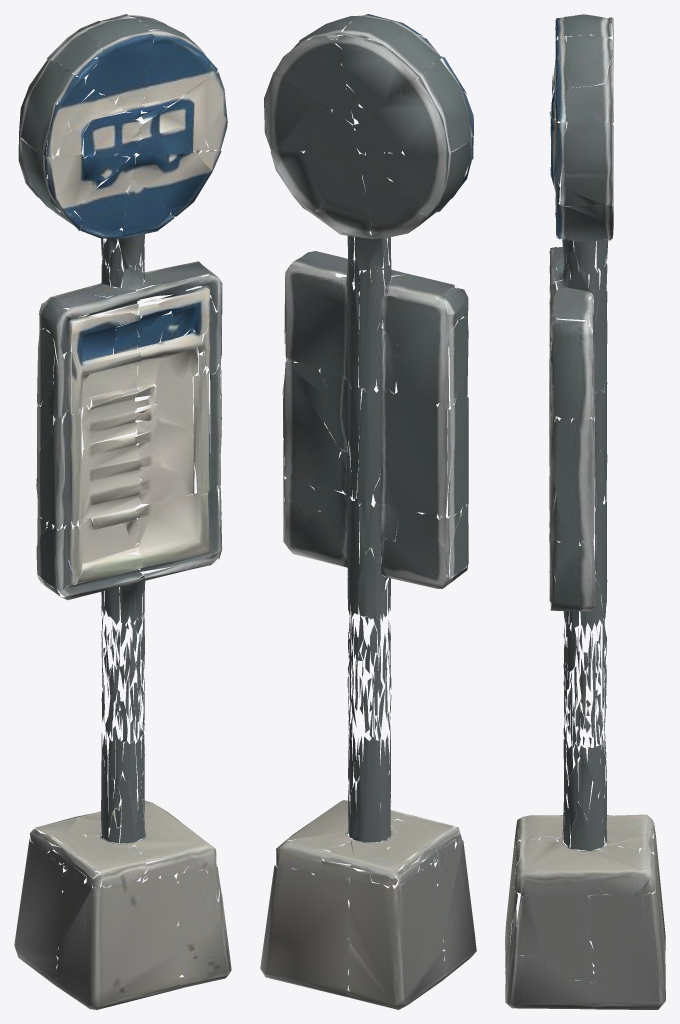
File: prop05.glb
The picture shows the model from 3 angles, left to right: view 1: azimuth 30°, elevation 25°; view 2: azimuth 150°, elevation 25°; view 3: azimuth 270°, elevation 25°; orthographic projection.
Visible parts, largest first — view 1: tripo_node_ff3f0f09-9adc-4c5b-9972-215f9cb77cff; view 2: tripo_node_ff3f0f09-9adc-4c5b-9972-215f9cb77cff; view 3: tripo_node_ff3f0f09-9adc-4c5b-9972-215f9cb77cff.
Part boxes in pixels (<box>): tripo_node_ff3f0f09-9adc-4c5b-9972-215f9cb77cff: <box>14,14,231,1009</box>; tripo_node_ff3f0f09-9adc-4c5b-9972-215f9cb77cff: <box>260,14,476,1009</box>; tripo_node_ff3f0f09-9adc-4c5b-9972-215f9cb77cff: <box>505,14,665,1009</box>.
Bounding box in the file's own units: 0.2061 × 1 × 0.153.
1 material, 1 textured.
